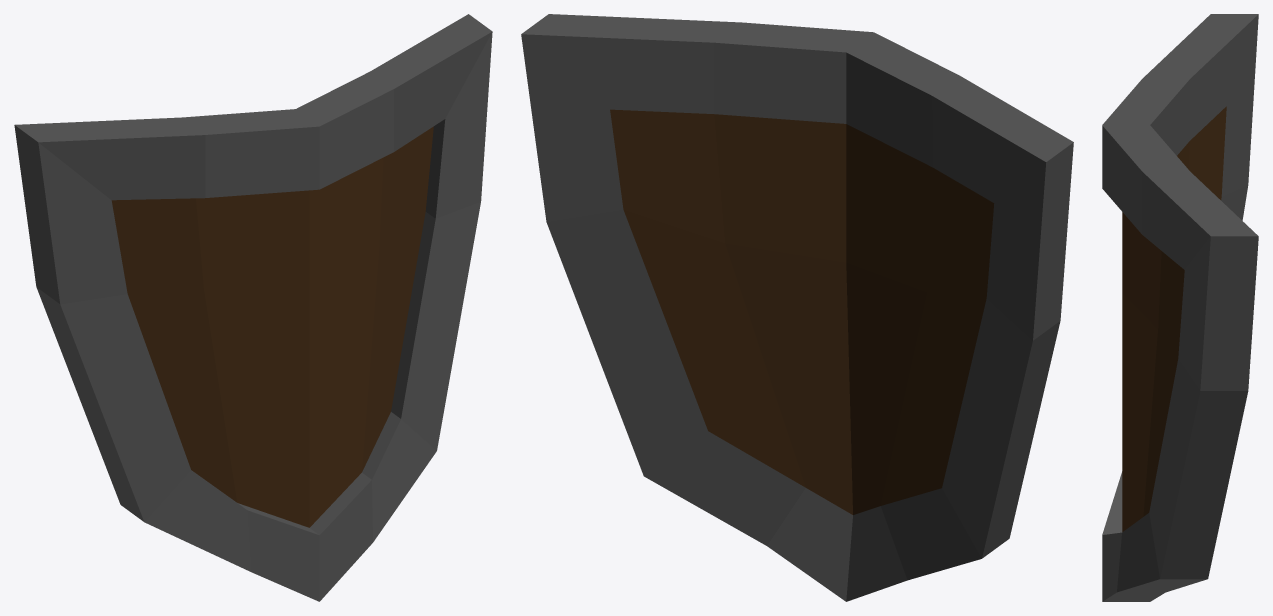
The model's file is iron_shield.glb.
The picture shows the model from 3 angles, left to right: view 1: azimuth 30°, elevation 25°; view 2: azimuth 150°, elevation 25°; view 3: azimuth 270°, elevation 25°; orthographic projection. The views are drawn at different scales.
Visible parts, largest first — view 1: shield; view 2: shield; view 3: shield.
Boxes of the visible parts, x1=… form: shield: x1=14, y1=14, x2=492, y2=601; shield: x1=521, y1=14, x2=1073, y2=601; shield: x1=1102, y1=14, x2=1258, y2=601.
Bounding box in the file's own units: 0.7998 × 0.7998 × 0.2381.
